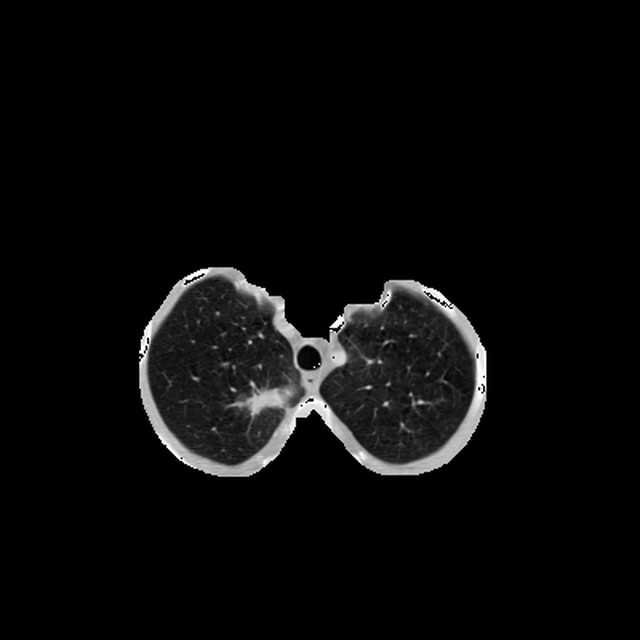PN: (250, 384, 282, 416)
